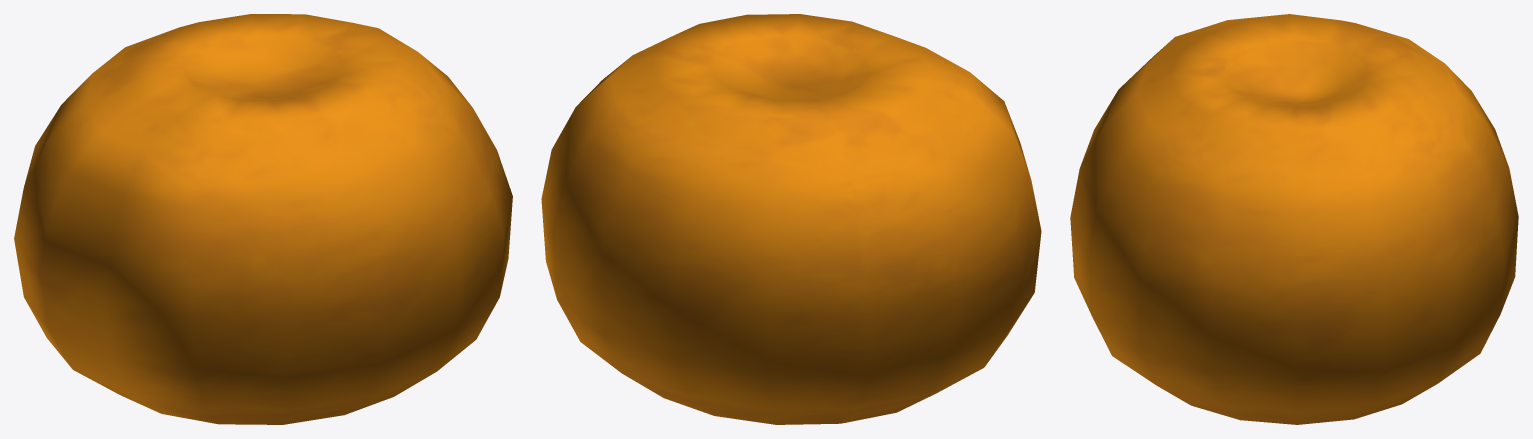
Rendered from Parent_Run_Orange.fbx.
The picture shows the model from 3 angles, left to right: view 1: azimuth 30°, elevation 25°; view 2: azimuth 150°, elevation 25°; view 3: azimuth 270°, elevation 25°; orthographic projection. The views are drawn at different scales.
Visible parts, largest first — view 1: Orange; view 2: Orange; view 3: Orange.
Part boxes in pixels (left/top/right/bottom): Orange: left=14, top=14, right=512, bottom=424; Orange: left=541, top=14, right=1041, bottom=424; Orange: left=1070, top=14, right=1518, bottom=424.
Bounding box in the file's own units: 242 × 165 × 215.
1 material, 1 textured.
